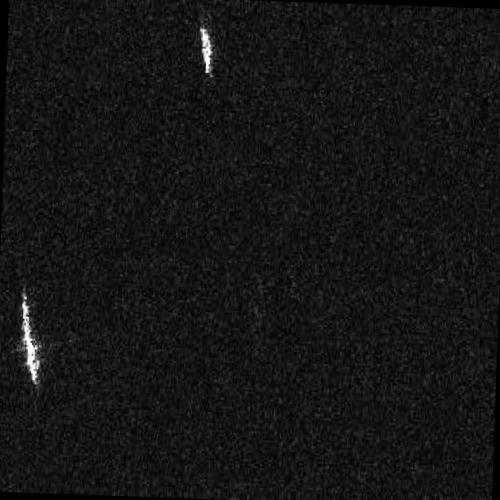ship: (19, 289, 40, 387), (196, 22, 214, 77)
